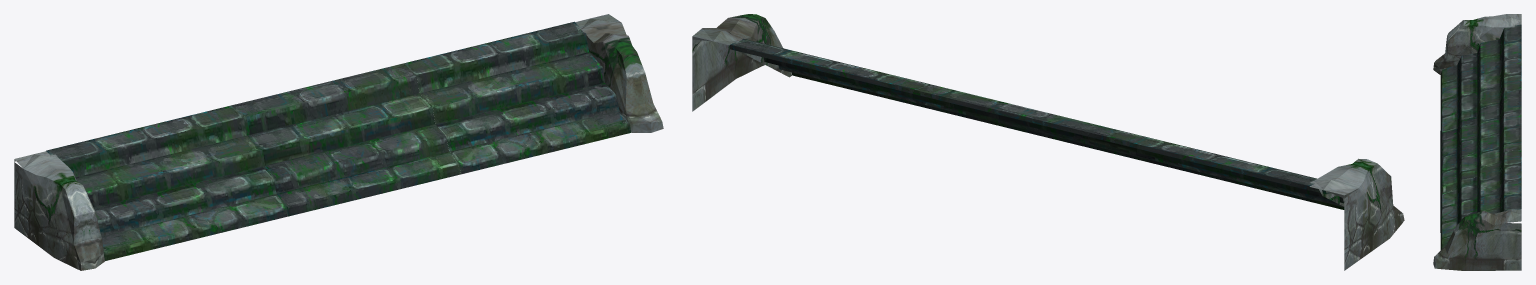
Rendered from stemple_quarter_stair_03.fbx.
3 views of the same model, side by side, from view 1: azimuth 30°, elevation 25°; view 2: azimuth 150°, elevation 25°; view 3: azimuth 270°, elevation 25° (orthographic). The views are drawn at different scales.
Visible parts, largest first — view 1: obj1.061; view 2: obj1.061; view 3: obj1.061.
Boxes of the visible parts, x1,y1,x2,y2 form: obj1.061: [14, 14, 663, 270]; obj1.061: [692, 14, 1404, 270]; obj1.061: [1433, 14, 1521, 270].
Bounding box in the file's own units: 12.91 × 1.51 × 2.31.
